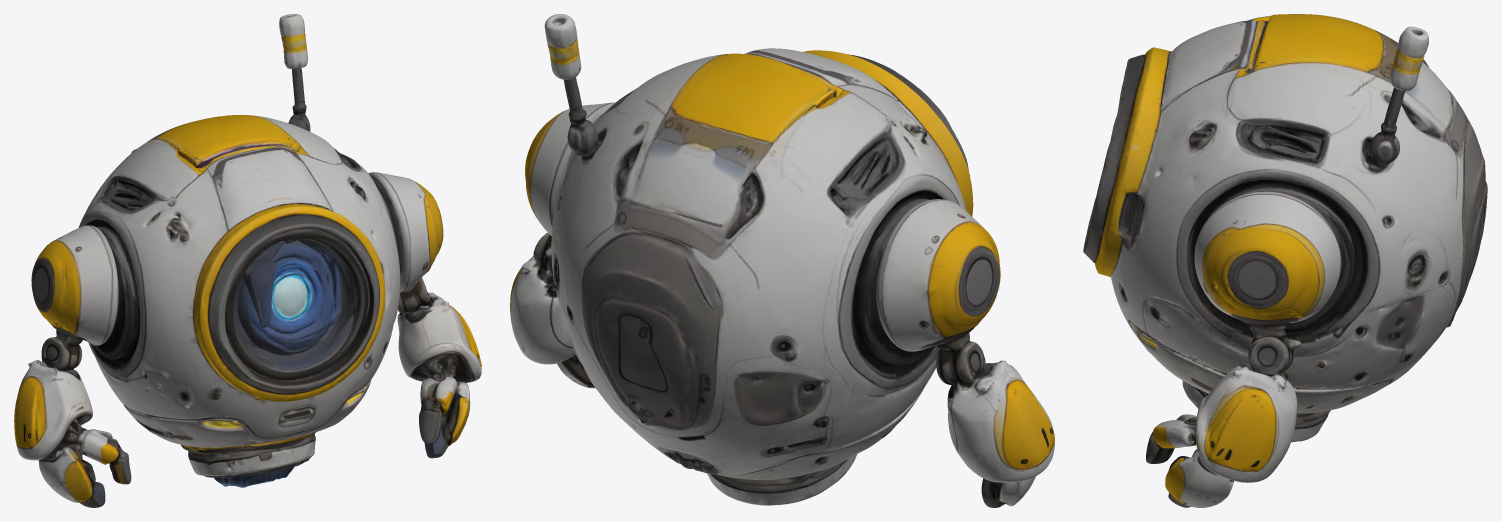
Rendered from robot.glb.
The picture shows the model from 3 angles, left to right: view 1: azimuth 30°, elevation 25°; view 2: azimuth 150°, elevation 25°; view 3: azimuth 270°, elevation 25°; orthographic projection. The views are drawn at different scales.
Parts seen in each view (by area): view 1: tripo_node_53a007b9-1e61-489b-ba54-d6f9f7e2f81f; view 2: tripo_node_53a007b9-1e61-489b-ba54-d6f9f7e2f81f; view 3: tripo_node_53a007b9-1e61-489b-ba54-d6f9f7e2f81f.
Boxes of the visible parts, <box> form: tripo_node_53a007b9-1e61-489b-ba54-d6f9f7e2f81f: <box>14,14,481,507</box>; tripo_node_53a007b9-1e61-489b-ba54-d6f9f7e2f81f: <box>510,14,1054,507</box>; tripo_node_53a007b9-1e61-489b-ba54-d6f9f7e2f81f: <box>1083,14,1487,507</box>.
Size of the model in its own units: 0.9999 by 0.8727 by 0.6862.
Materials: 1 (1 with a texture image).
